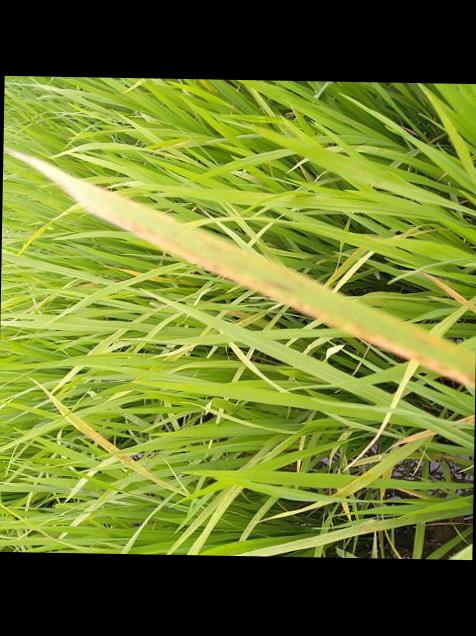Leaf Blight: (5, 148, 475, 388), (31, 380, 174, 492)
